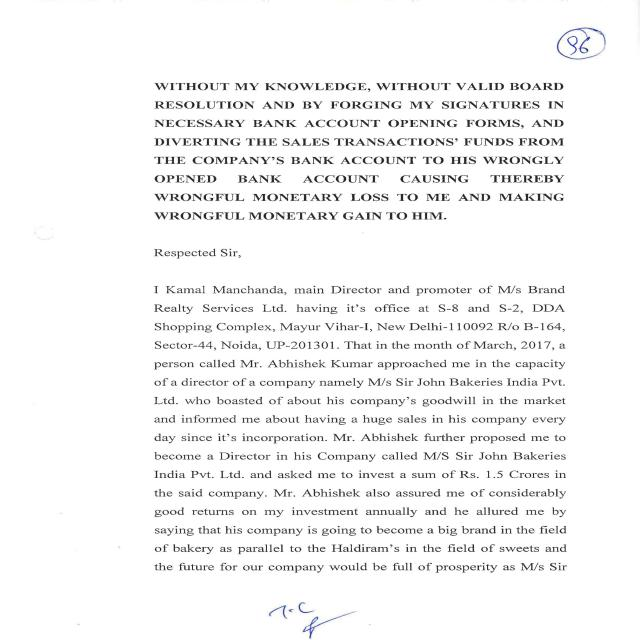page-number: (402, 1, 637, 81)
